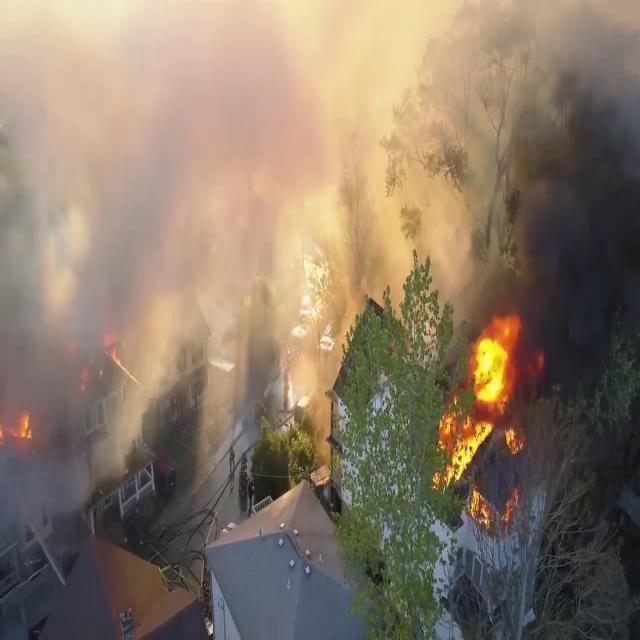Fire: (435, 311, 528, 504), (282, 220, 359, 430), (0, 404, 32, 451)
Smoke: (0, 1, 426, 514), (384, 5, 640, 299)
